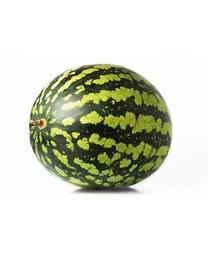watermelon: (28, 62, 173, 191)
